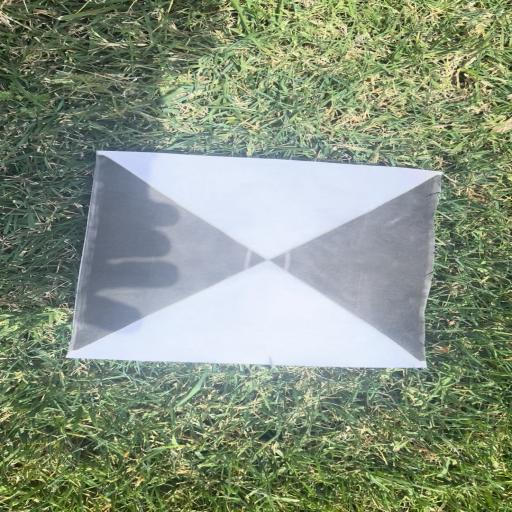target: (65, 152, 441, 365)
